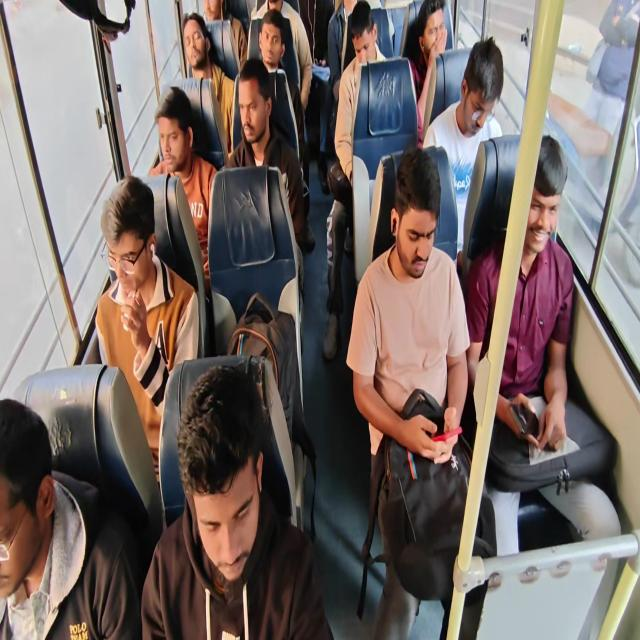person: (346, 146, 496, 638), (465, 133, 621, 574), (140, 363, 334, 639), (0, 396, 142, 639), (95, 175, 199, 484), (322, 1, 387, 360), (422, 36, 504, 266), (226, 58, 306, 251), (148, 85, 218, 292), (181, 12, 235, 152), (320, 1, 358, 188), (249, 0, 312, 112), (406, 0, 448, 147), (327, 0, 358, 104), (202, 0, 247, 71)
